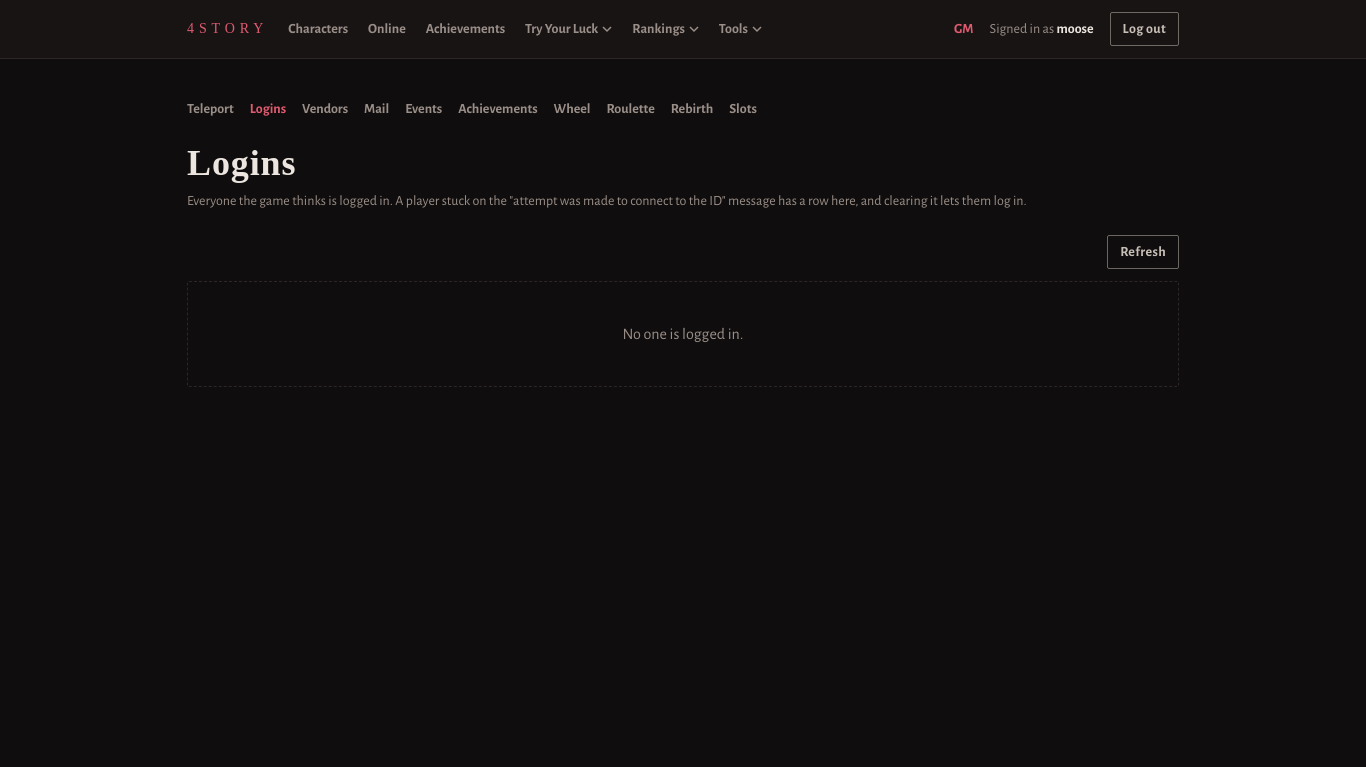
it: GM roulette page › is linked from the GM menu and shows the switch, limits and totals
Click the link "Roulette" at (631, 109), box [606,99,655,119]
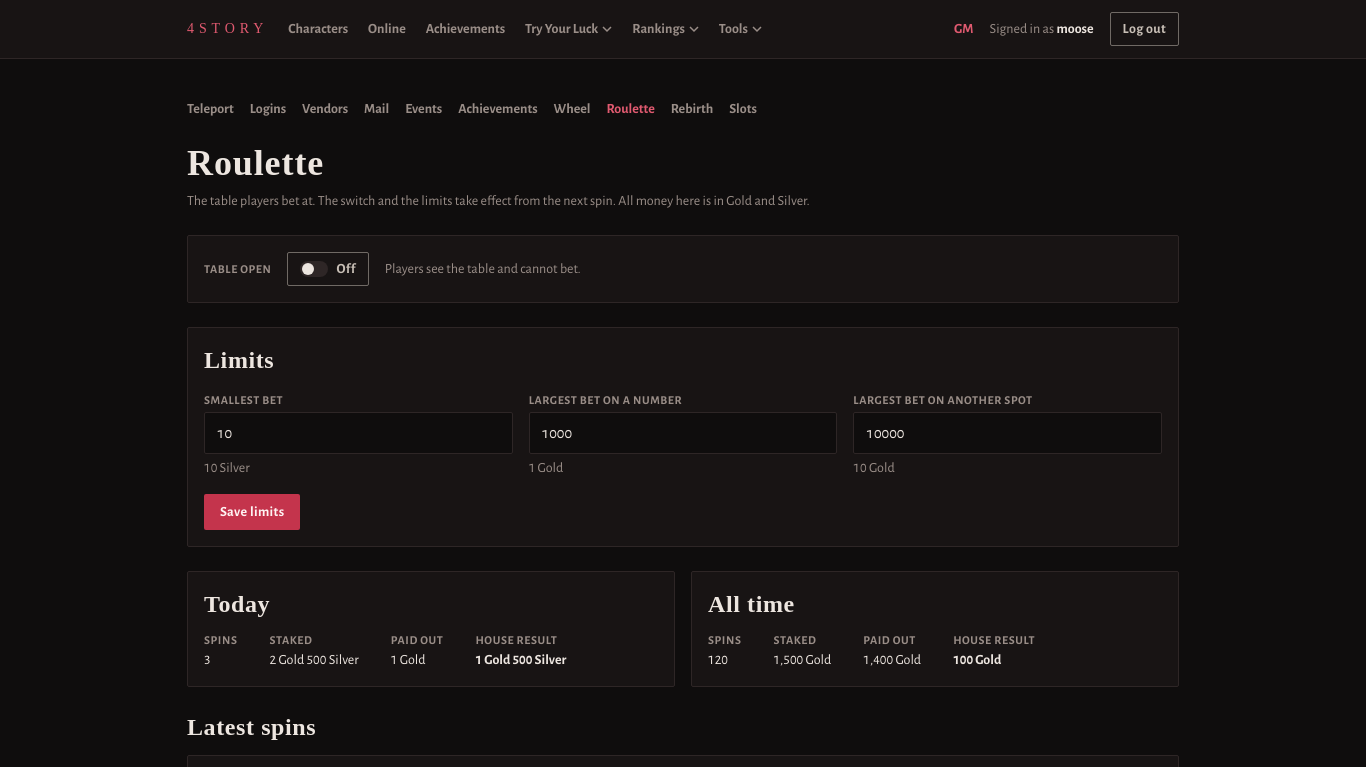
expect the heading "Roulette" is shown: met, box [187,143,324,183]
expect the switch named "Table open" is not checked: met, box [287,252,369,286]
expect the text "Players see the table and cannot bet." is shown: met, box [385,259,581,279]
